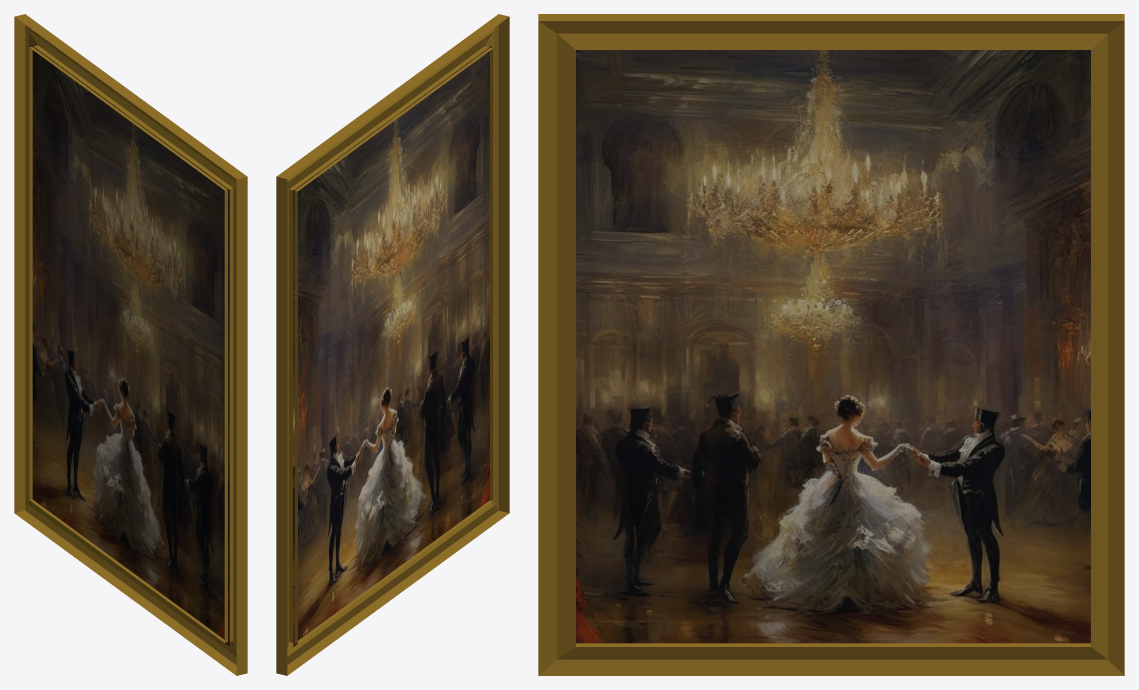
The model's file is bilderrahmen-ball.fbx.
3 views of the same model, side by side, from view 1: azimuth 30°, elevation 25°; view 2: azimuth 150°, elevation 25°; view 3: azimuth 270°, elevation 25° (orthographic). The views are drawn at different scales.
Visible parts, largest first — view 1: ballet; view 2: ballet; view 3: ballet.
Part boxes in pixels (box(x1,y1,x2,y2)): ballet: box(14, 14, 247, 675); ballet: box(276, 14, 509, 675); ballet: box(538, 14, 1124, 675).
Size of the model in its own units: 2.5 by 109 by 88.27.
